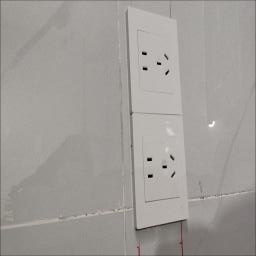outlet: (127, 113, 187, 240), (126, 4, 180, 116)
